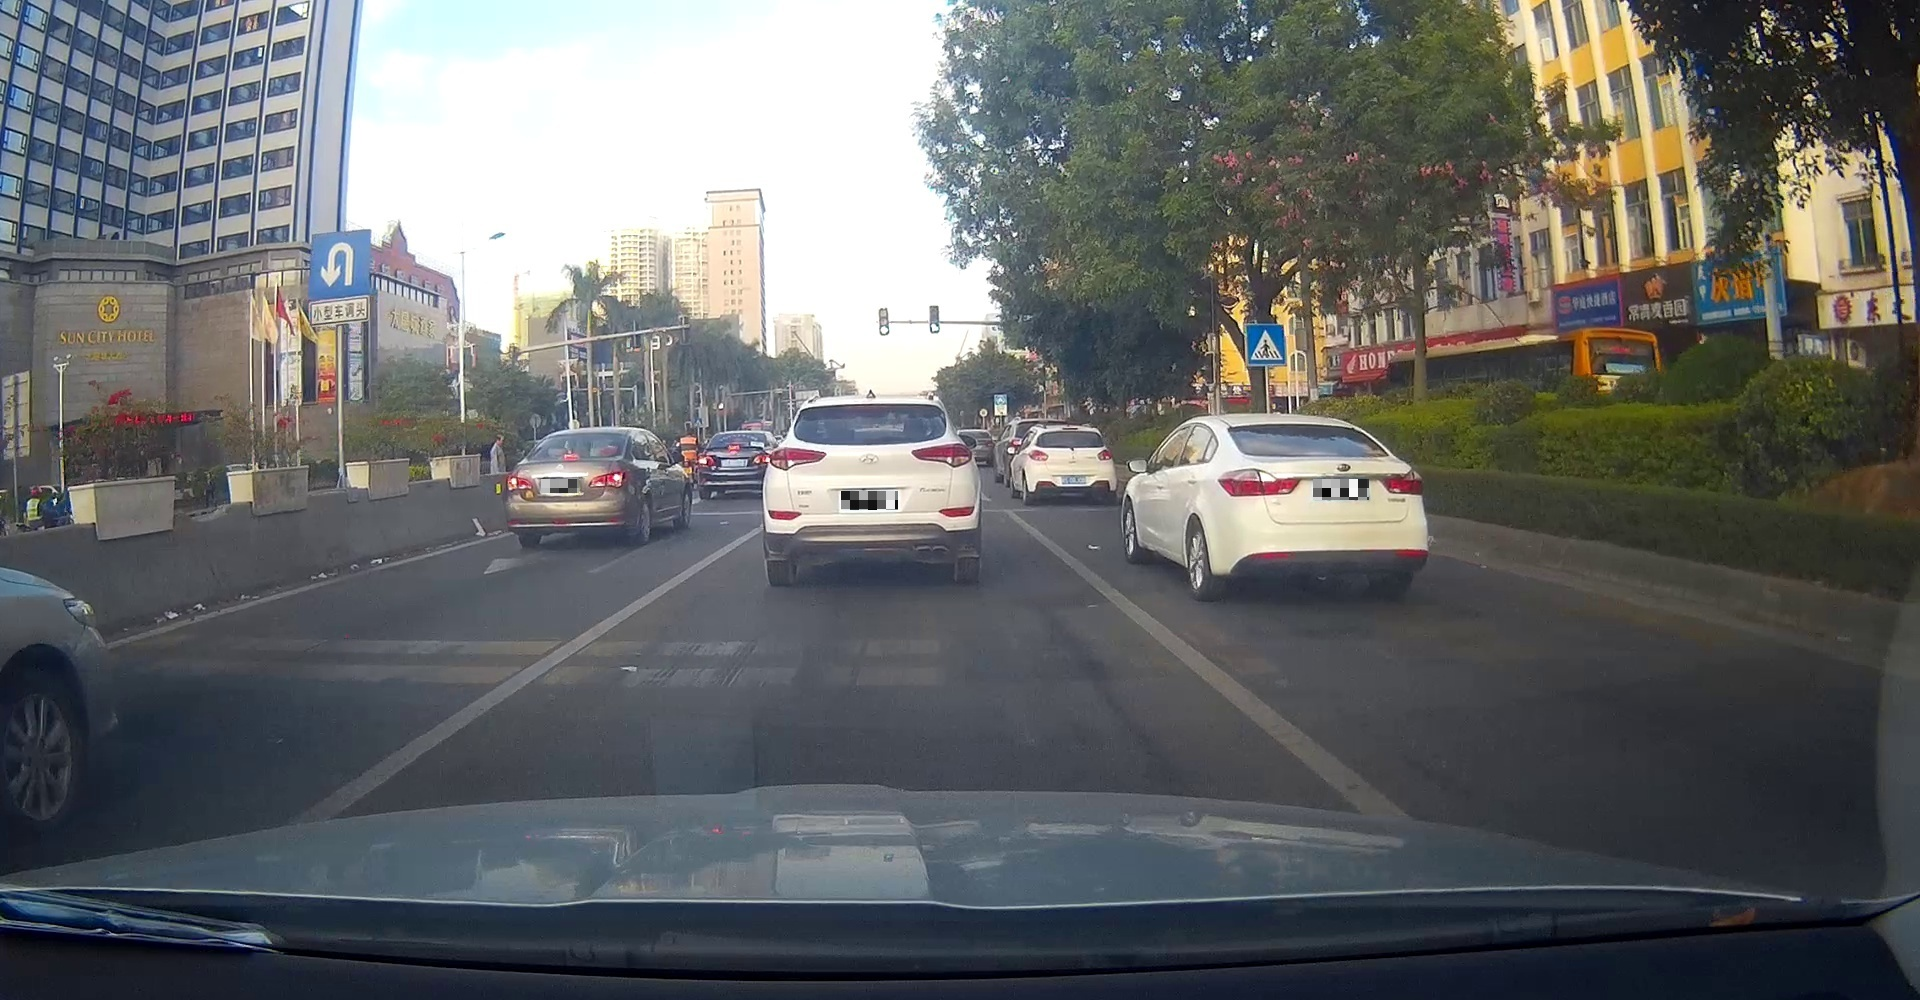L_light: (1217, 467, 1302, 496), (770, 447, 827, 472), (505, 475, 533, 492), (1029, 449, 1049, 462)
R_light: (910, 442, 971, 468), (1379, 467, 1423, 496), (588, 470, 625, 489), (1096, 449, 1112, 461)
T_light: (855, 404, 889, 411), (563, 453, 580, 459), (1293, 426, 1316, 430), (1064, 431, 1077, 434)
day-brake: (504, 426, 632, 546)
day-no: (762, 396, 980, 585), (1213, 414, 1429, 600), (1025, 425, 1117, 505)
plate_1: (541, 478, 579, 492)
plate_2: (841, 491, 898, 510)
plate_3: (1313, 478, 1369, 500)
